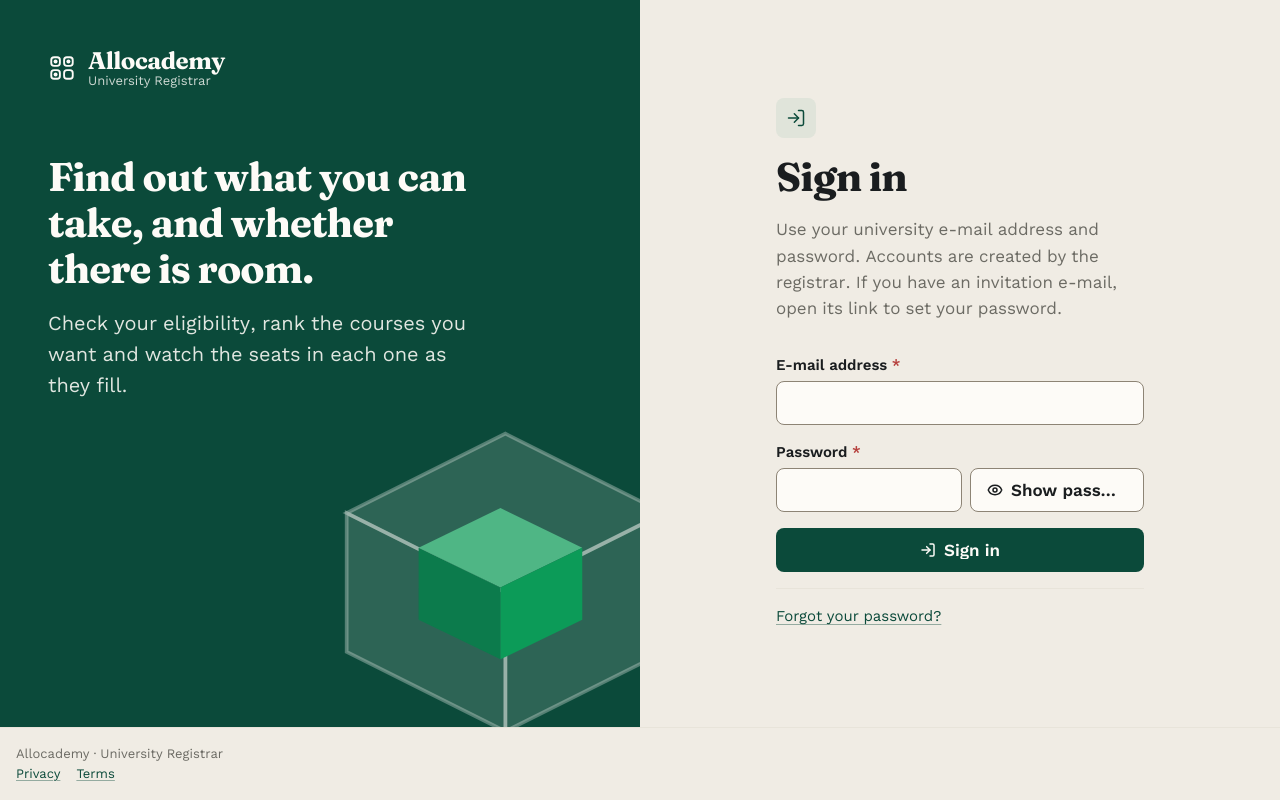
Scenario: LoginPage submission › sends a signed-in STUDENT to /student/dashboard
The width and height of the screenshot is (1280, 800).
Expected: the heading "Sign in" is shown, [776,152,907,201]
Type "aarav.sharma@university.edu" into the field labelled "E-mail address" at (960, 403), box [776,381,1144,425]
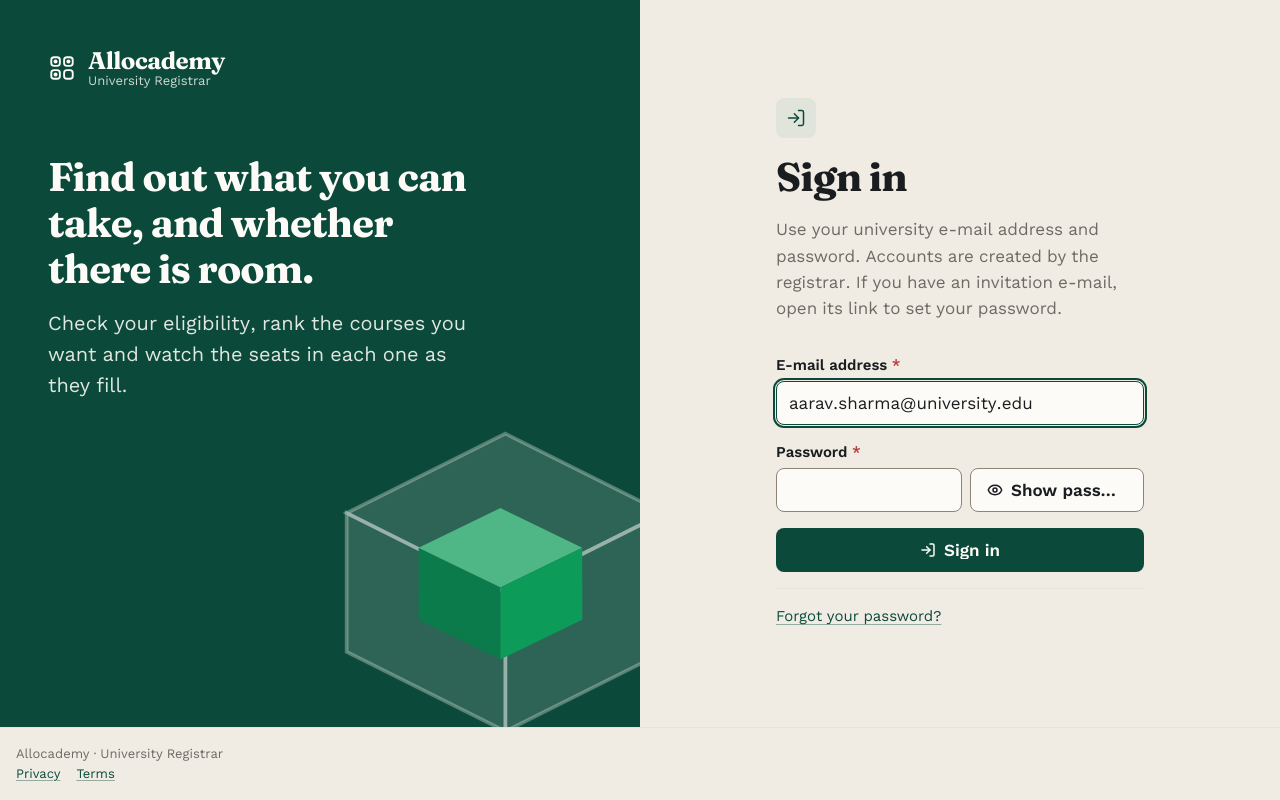
Type "Password@123" into the password field labelled "Password" at (869, 490), box [776,468,962,512]
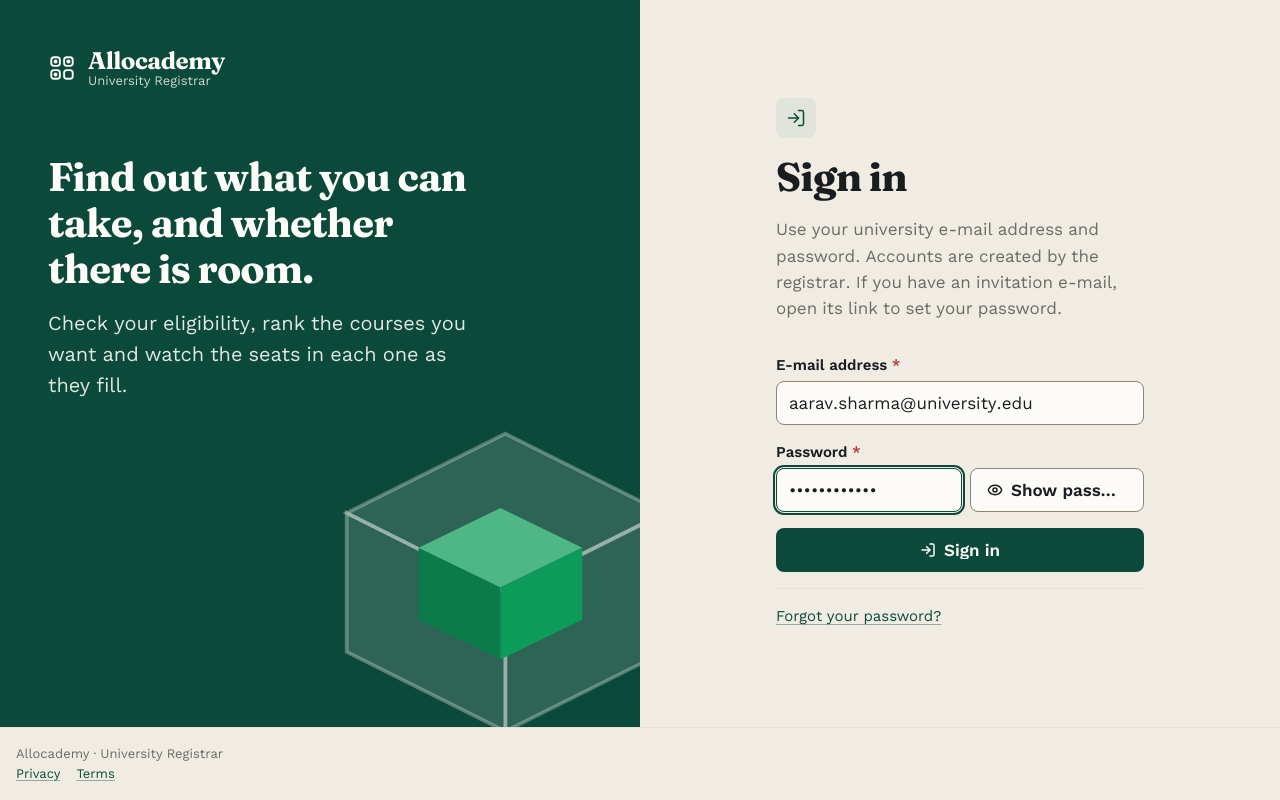
Click the button "Sign in" at (960, 550), box [776,528,1144,572]
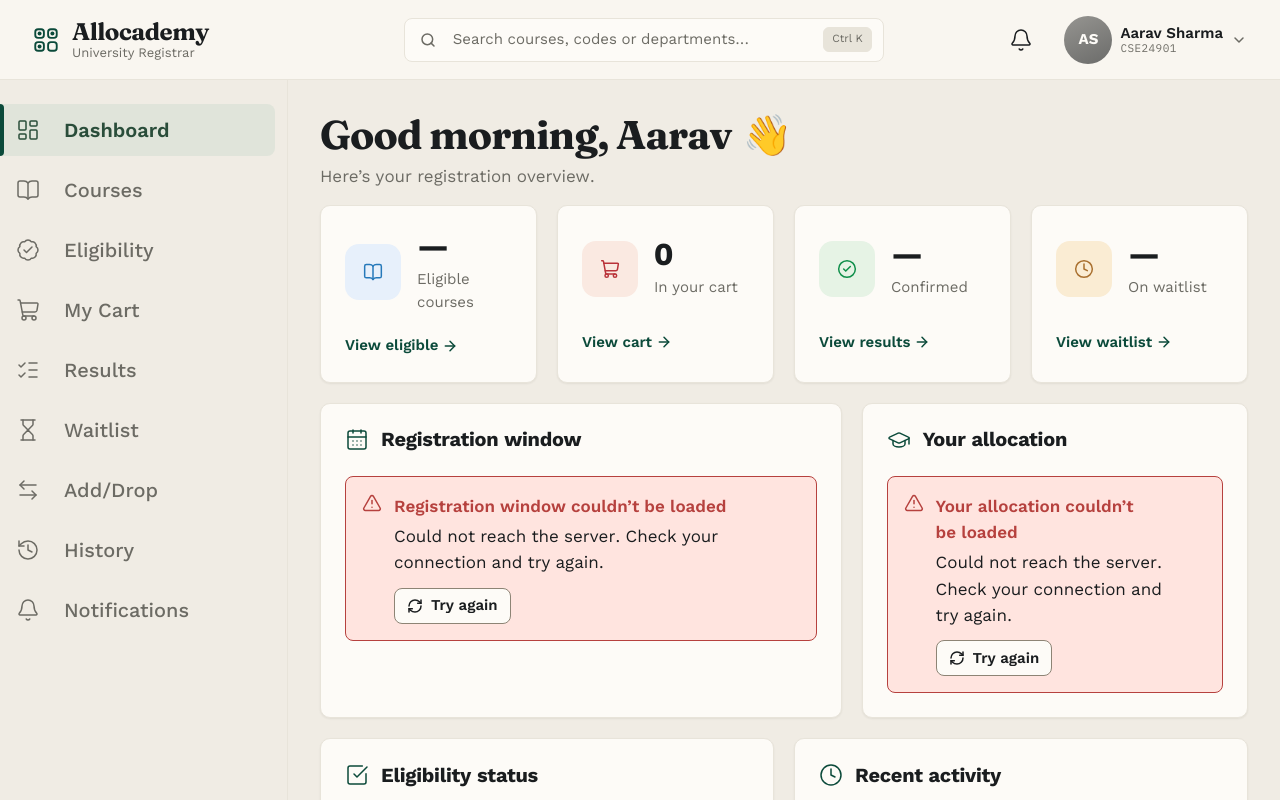
Expected: the heading "Good morning, Aarav 👋" is shown, [320,110,792,159]
